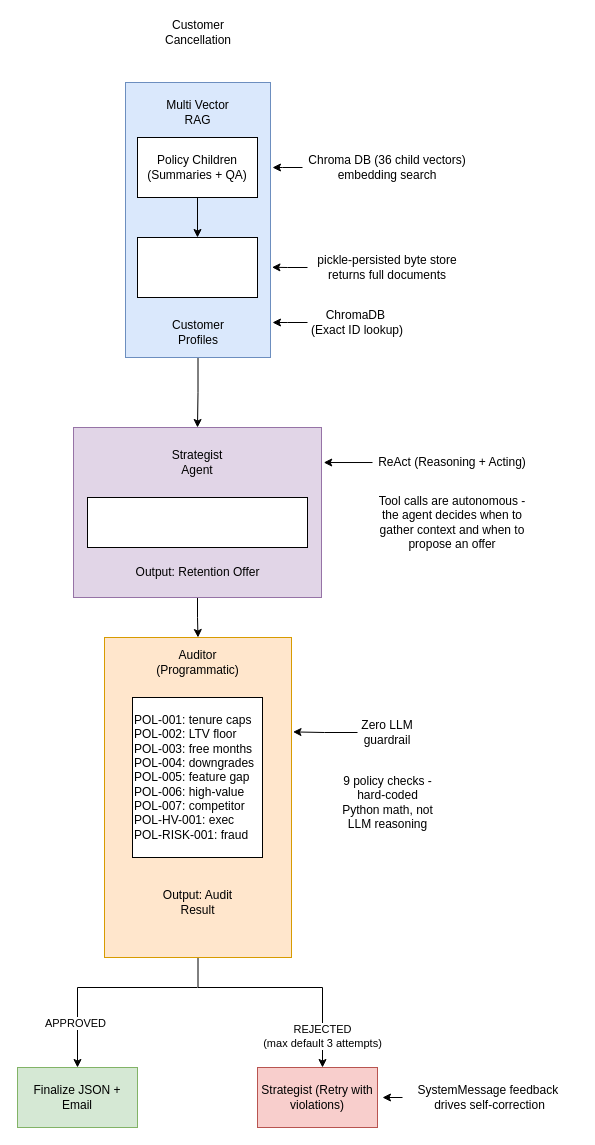
Some shapes in this 595 by 1145 pixel diagram are drawn without their labels. Here are the shapes that lost their labels. From the top down, the centre of each, then its label:
At point (197, 267): "Parent Policy Store (Full policy text)".
At point (197, 522): "get_customer_profile(id) search_retention_policies(query)".
